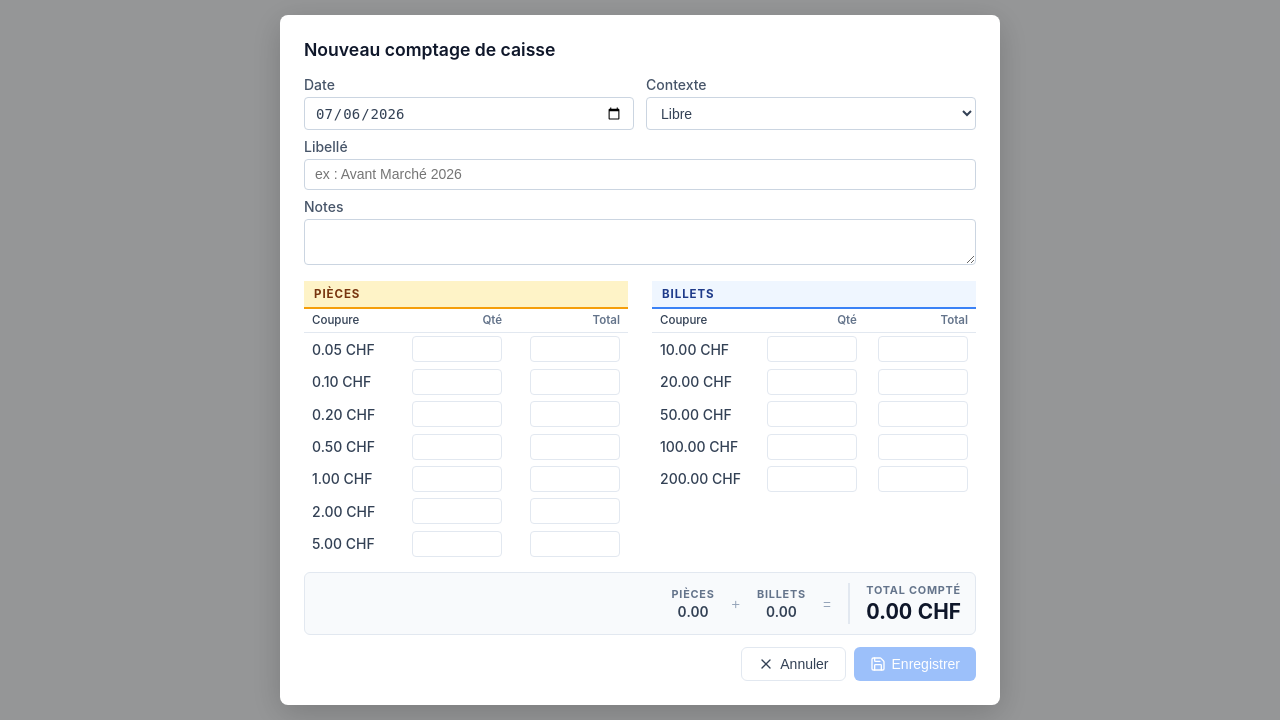
it: CashCountModal › bouton Enregistrer actif dès qu'une quantité > 0
Type "5" into the number field with test id "qty-100".
click(457, 479); type("5")  # box [412,466,502,492]
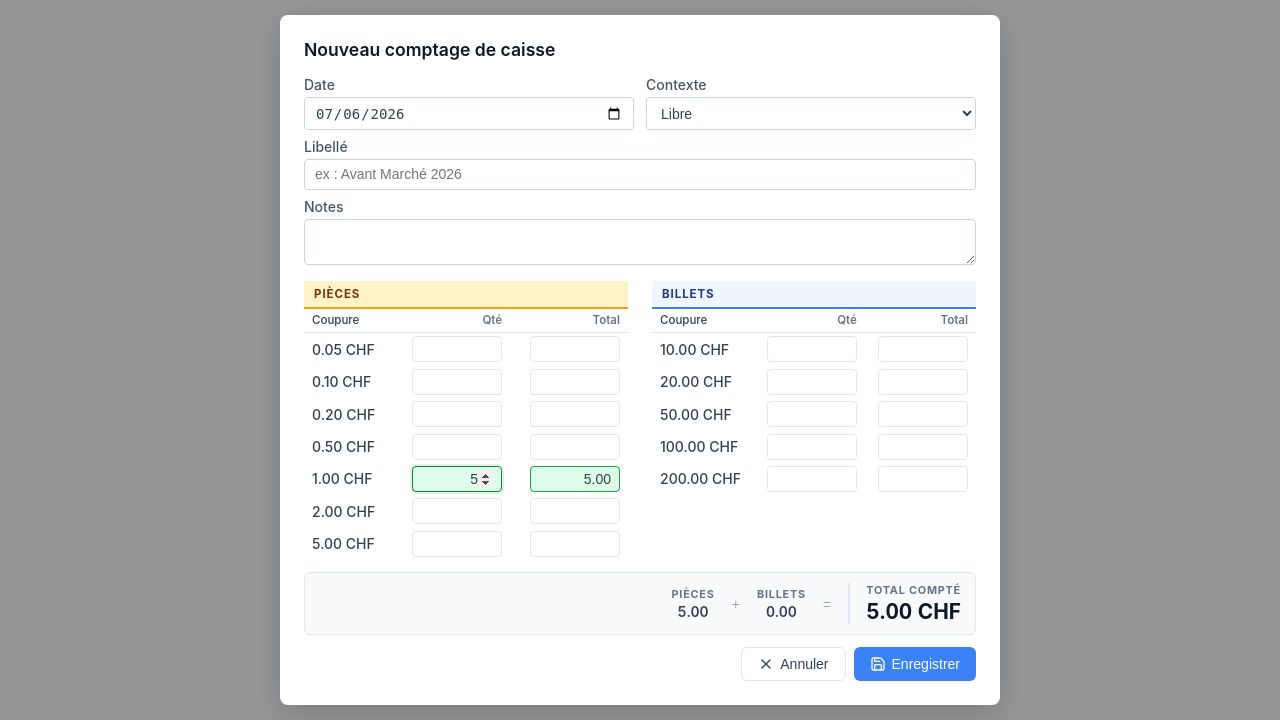
Expected: the button "Enregistrer" is enabled, [854,647,976,681]
